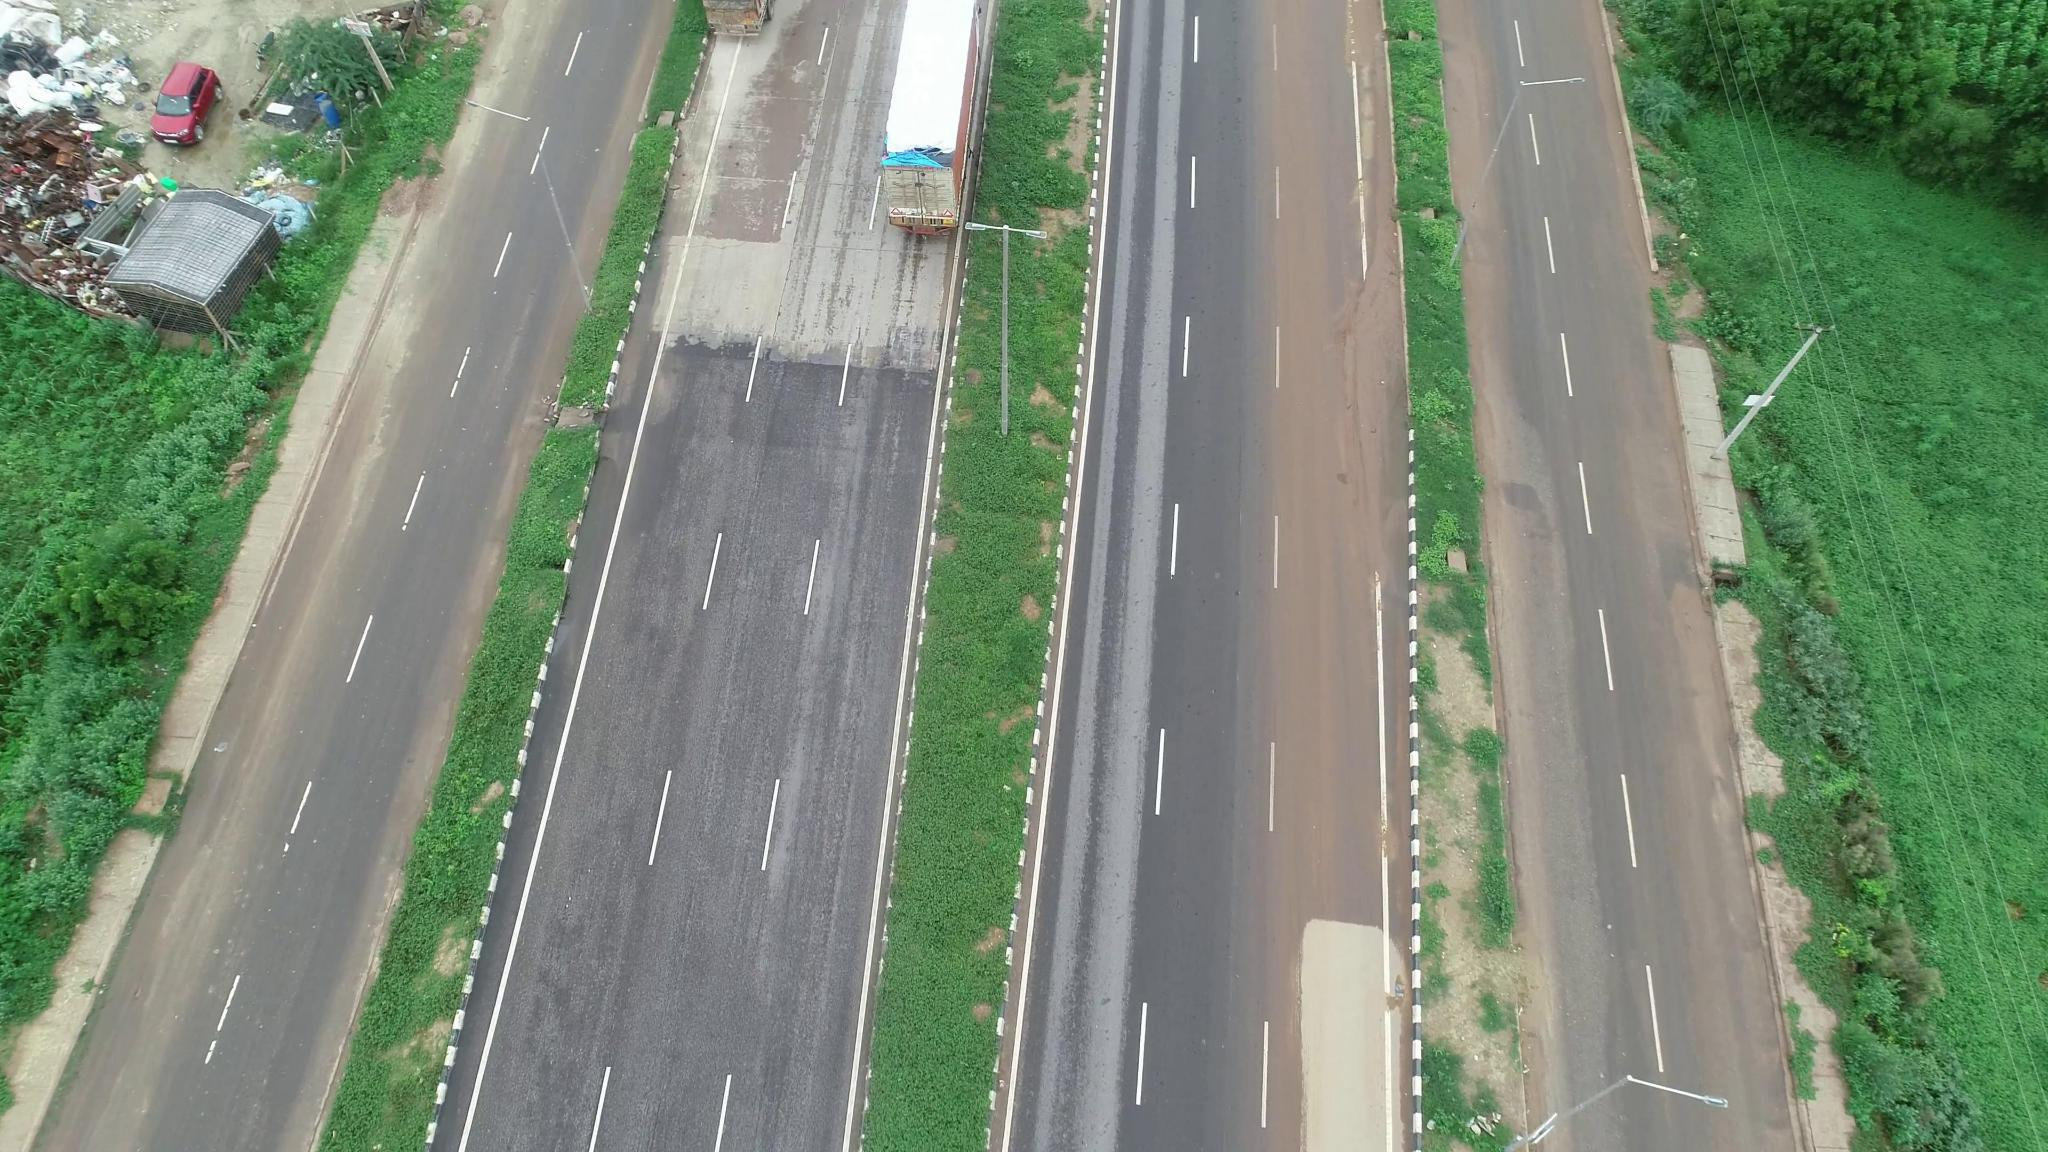Muddy_road: (1273, 293, 1395, 899)
